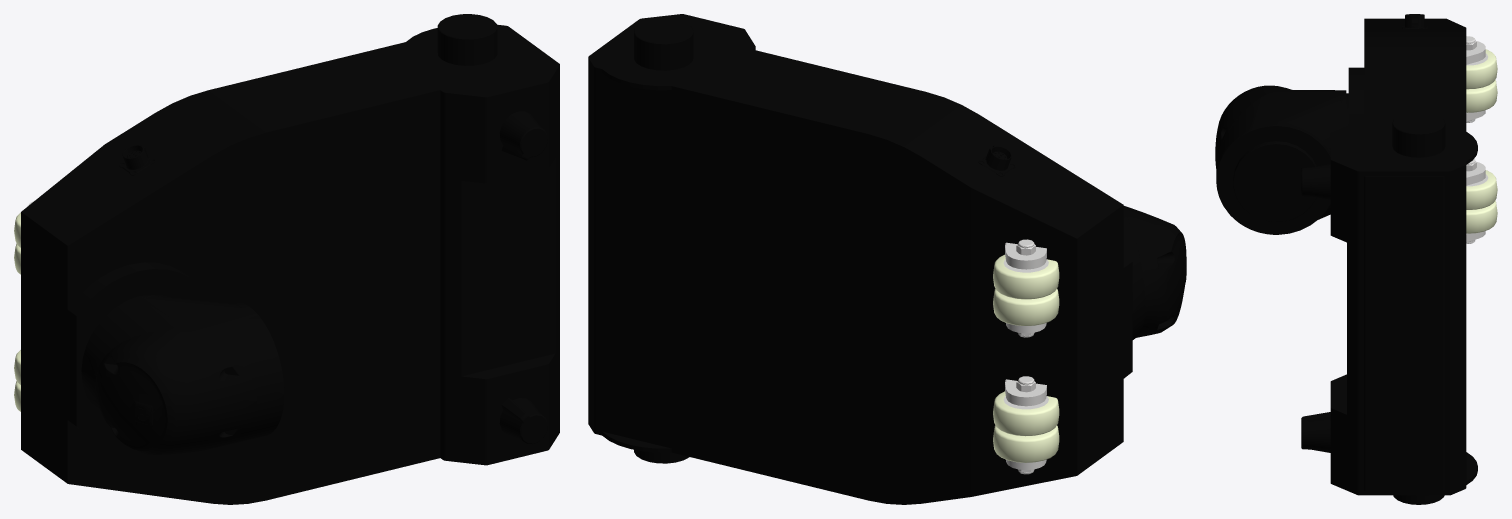
The picture shows the model from 3 angles, left to right: view 1: azimuth 30°, elevation 25°; view 2: azimuth 150°, elevation 25°; view 3: azimuth 270°, elevation 25°; orthographic projection. The views are drawn at different scales.
Parts seen in each view (by area): view 1: MOBILE_BASE_V2; view 2: MOBILE_BASE_V2; view 3: MOBILE_BASE_V2.
Part boxes in pixels (x1,y1,x2,y2): MOBILE_BASE_V2: (14, 14, 559, 504); MOBILE_BASE_V2: (588, 14, 1186, 504); MOBILE_BASE_V2: (1215, 14, 1497, 504).
Bounding box in the file's own units: 0.6388 × 0.519 × 0.3579.
